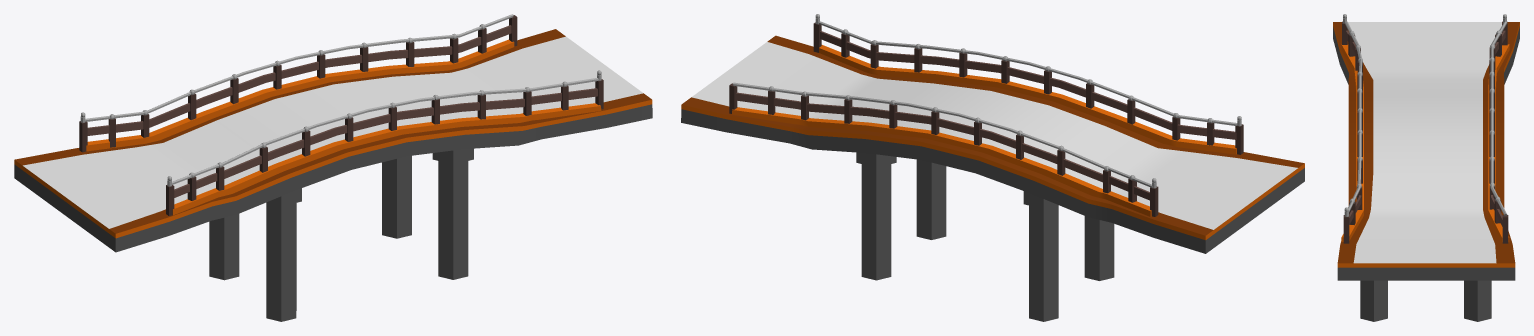
Rendered from ponte_pequena.fbx.
3 views of the same model, side by side, from view 1: azimuth 30°, elevation 25°; view 2: azimuth 150°, elevation 25°; view 3: azimuth 270°, elevation 25° (orthographic). The views are drawn at different scales.
Parts seen in each view (by area): view 1: polySurface344, polySurface345, polySurface375, polySurface342, polySurface408, polySurface372, polySurface400; view 2: polySurface344, polySurface345, polySurface375, polySurface342, polySurface408, polySurface372, polySurface400; view 3: polySurface344, polySurface345, polySurface408, polySurface375, polySurface372, polySurface342, polySurface400.
Part boxes in pixels (box(x1,y1,x2,y2)): polySurface344: box(14, 29, 652, 252); polySurface345: box(209, 148, 473, 321); polySurface375: box(86, 39, 601, 215); polySurface342: box(87, 25, 597, 197); polySurface408: box(79, 15, 603, 215); polySurface372: box(85, 14, 598, 184); polySurface400: box(110, 24, 567, 177); polySurface344: box(681, 35, 1304, 253); polySurface345: box(856, 152, 1114, 321); polySurface375: box(732, 45, 1236, 216); polySurface342: box(735, 31, 1236, 200); polySurface408: box(729, 22, 1243, 216); polySurface372: box(733, 21, 1237, 187); polySurface400: box(769, 29, 1212, 179); polySurface344: box(1333, 22, 1519, 280); polySurface345: box(1360, 280, 1491, 321); polySurface408: box(1342, 21, 1508, 243); polySurface375: box(1341, 44, 1509, 242); polySurface372: box(1345, 21, 1507, 215); polySurface342: box(1345, 30, 1505, 226); polySurface400: box(1349, 30, 1501, 202).
Bounding box in the file's own units: 14.32 × 4.88 × 4.66.
